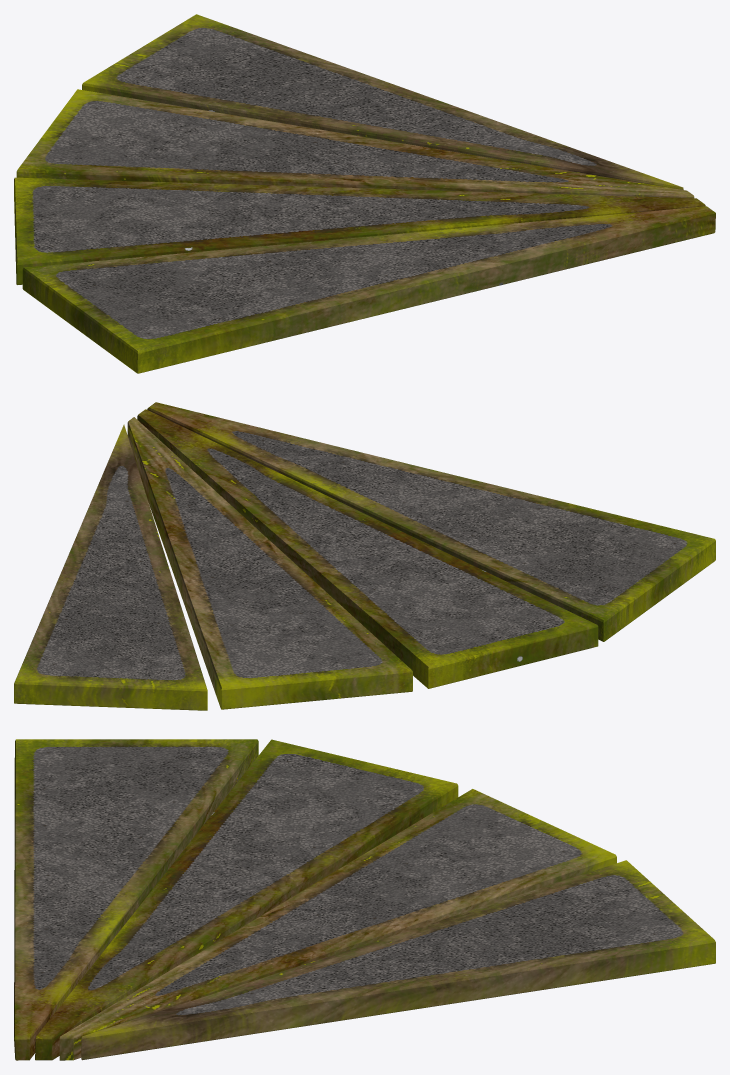
The model's file is PNW Pathway_Curve_72_R_Grip.glb.
The picture shows the model from 3 angles, top to bottom: view 1: azimuth 30°, elevation 25°; view 2: azimuth 150°, elevation 25°; view 3: azimuth 270°, elevation 25°; orthographic projection. The views are drawn at different scales.
Visible parts, largest first — view 1: Curve_72_R_Grip; view 2: Curve_72_R_Grip; view 3: Curve_72_R_Grip.
Boxes of the visible parts, bbox=[...] form: Curve_72_R_Grip: bbox=[14, 14, 715, 373]; Curve_72_R_Grip: bbox=[14, 402, 715, 710]; Curve_72_R_Grip: bbox=[14, 739, 715, 1060].
Size of the model in its own units: 1.52 by 0.0577 by 1.51.
Materials: 1 (1 with a texture image).
